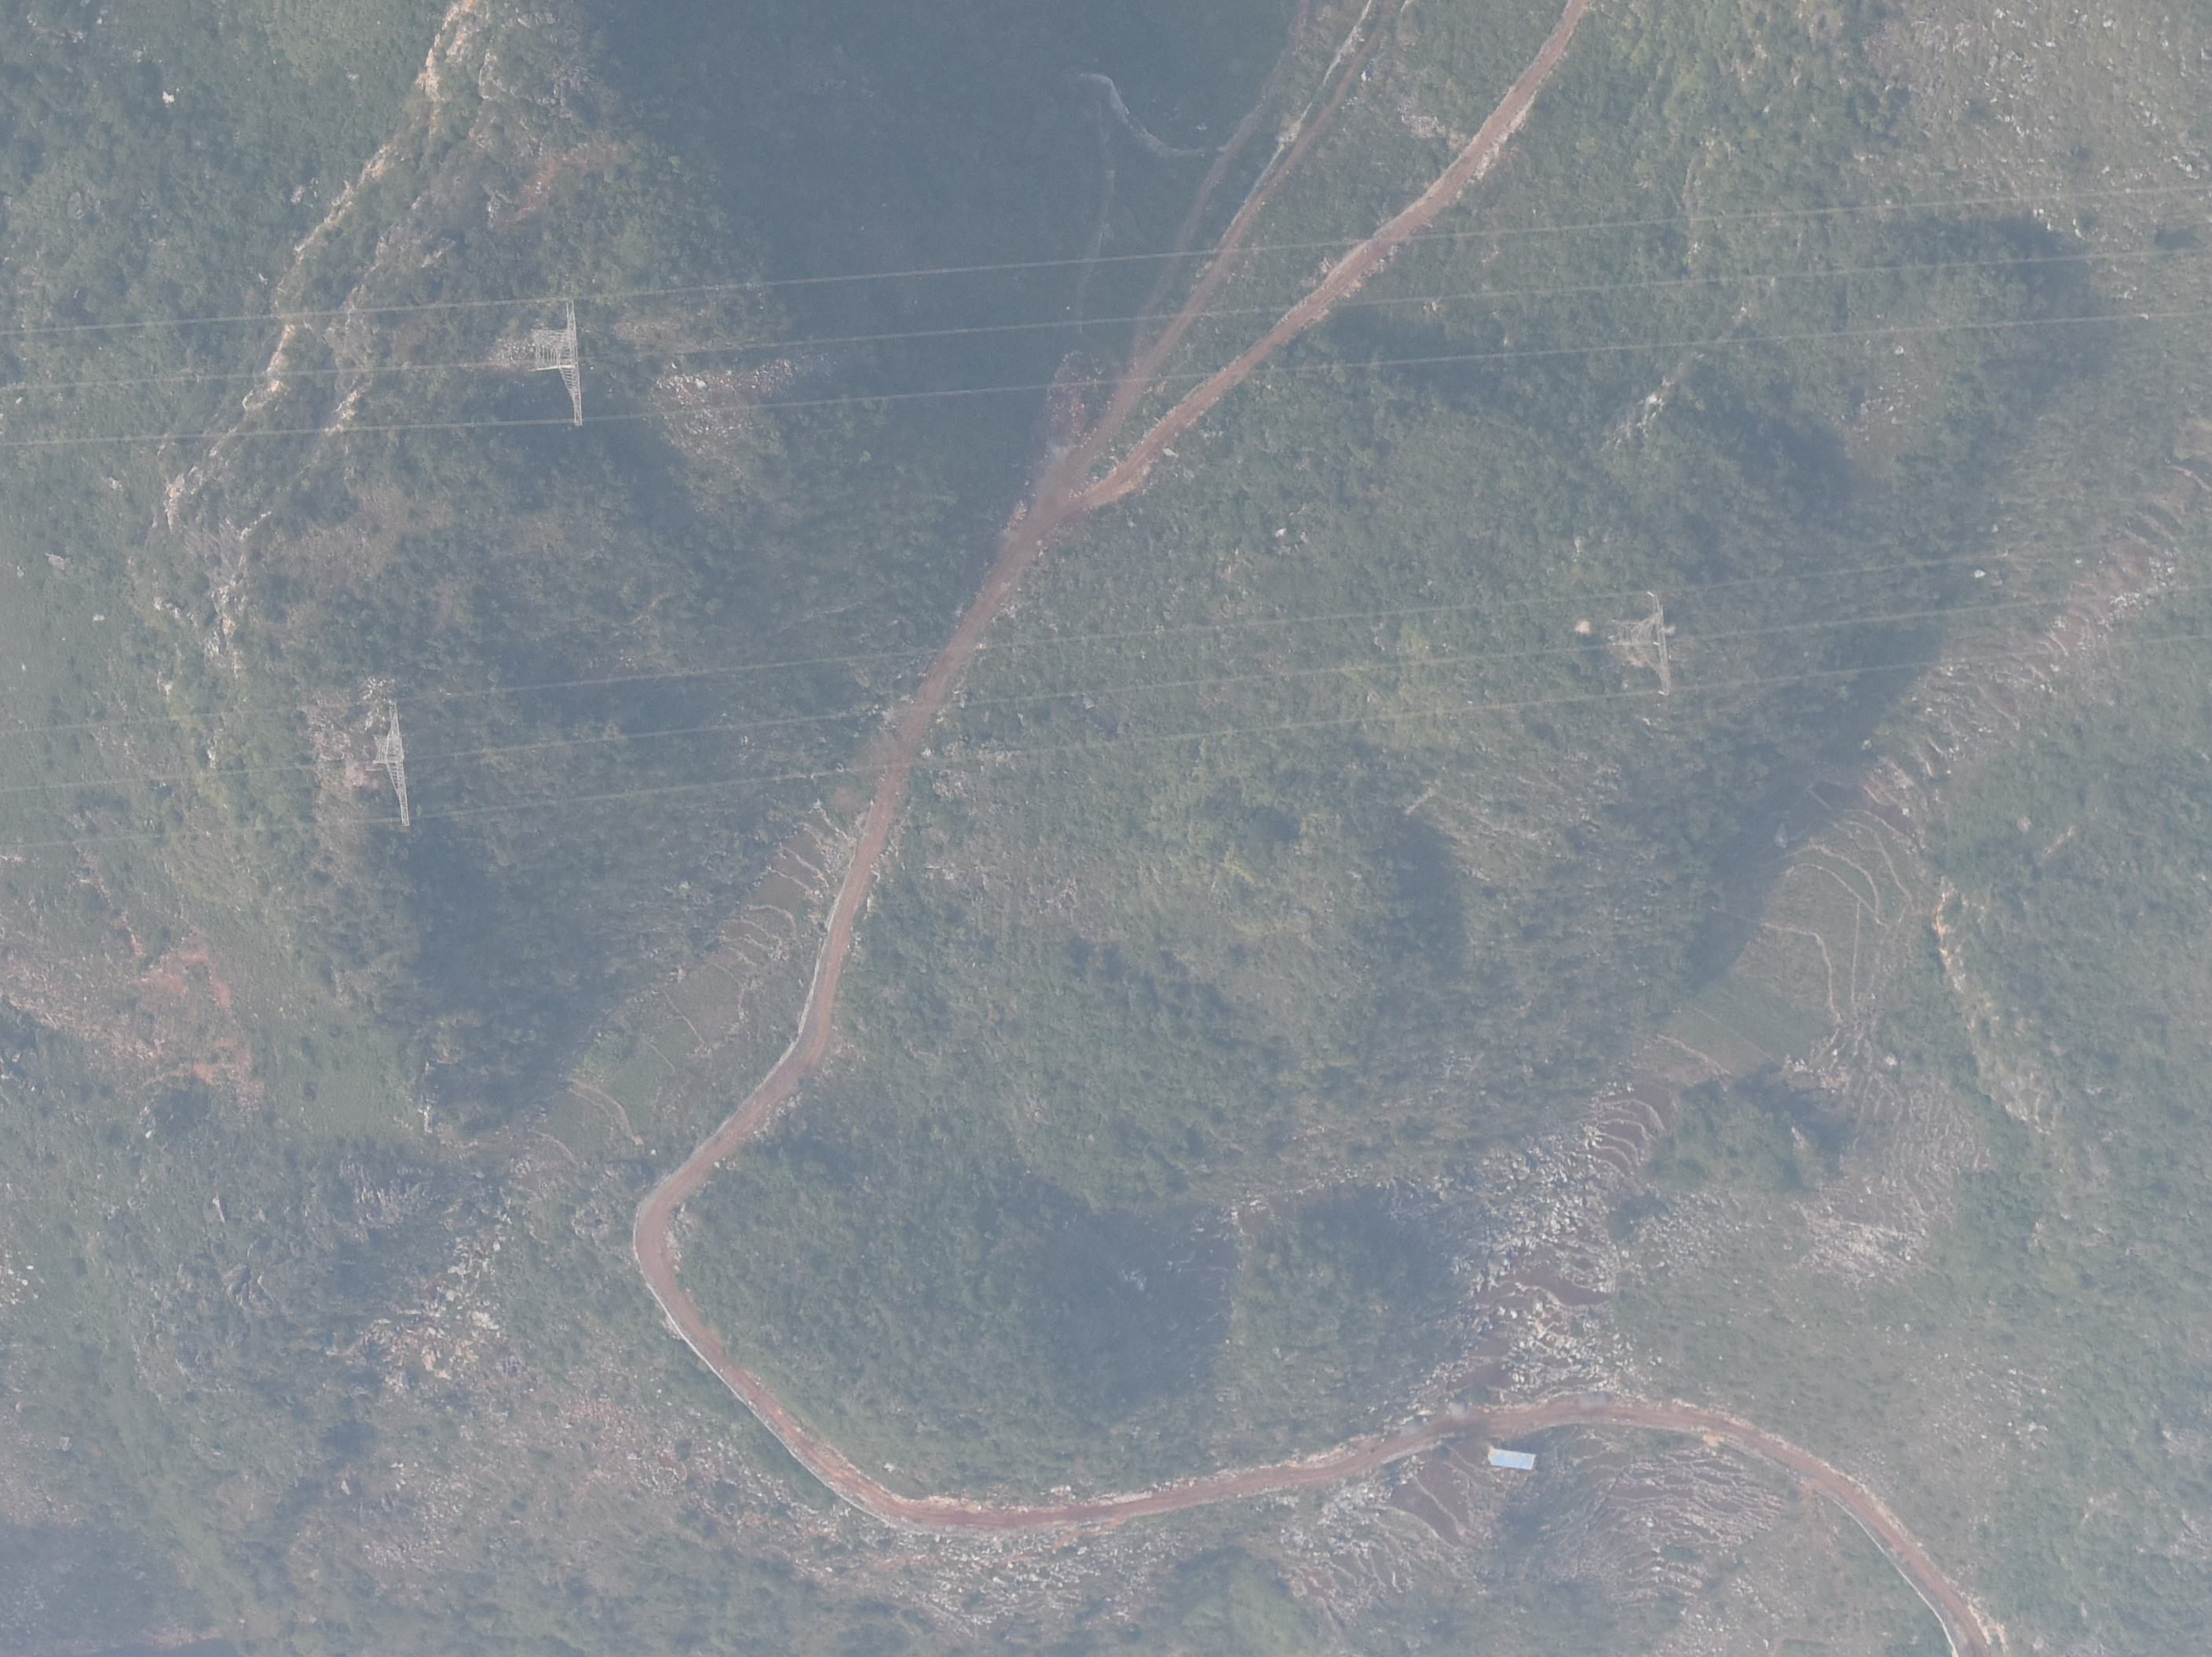cable-tower: (327, 667, 447, 846), (515, 275, 635, 430), (1589, 576, 1681, 698)
prefabricated-house: (1483, 1443, 1537, 1474)
